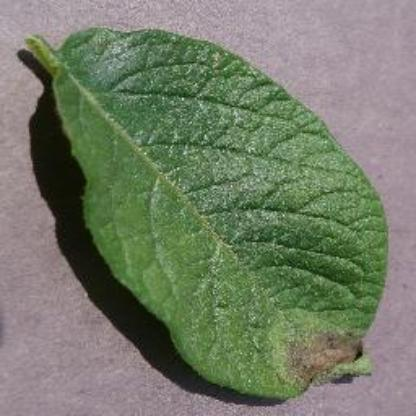Late-Blight: (28, 17, 395, 404)
